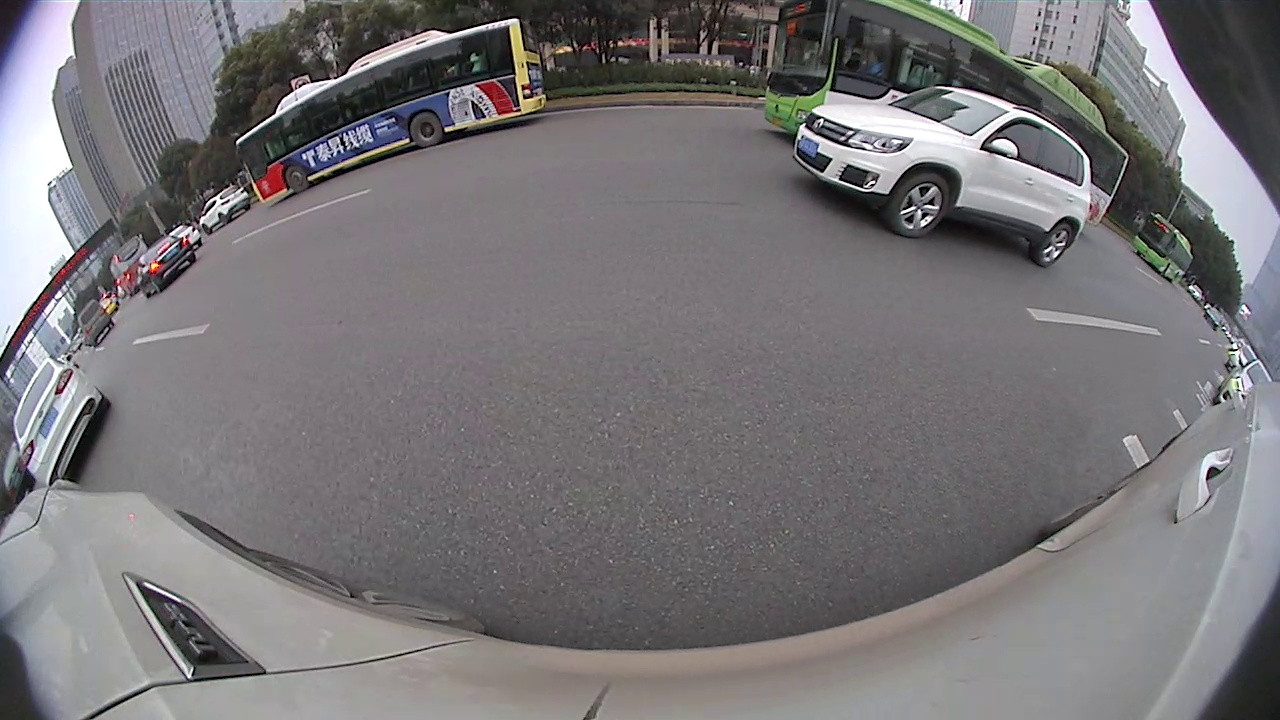bus: (762, 0, 1130, 228), (233, 16, 547, 205), (1131, 212, 1196, 288), (110, 233, 151, 298)
car: (792, 83, 1094, 269), (10, 352, 113, 489), (136, 232, 198, 299), (1213, 357, 1275, 407), (199, 183, 253, 235), (76, 298, 115, 348), (165, 222, 204, 255), (1224, 342, 1261, 375)
front: (879, 173, 952, 237), (280, 164, 314, 193)
rear: (1029, 225, 1076, 270), (406, 109, 447, 149), (87, 394, 114, 416)
